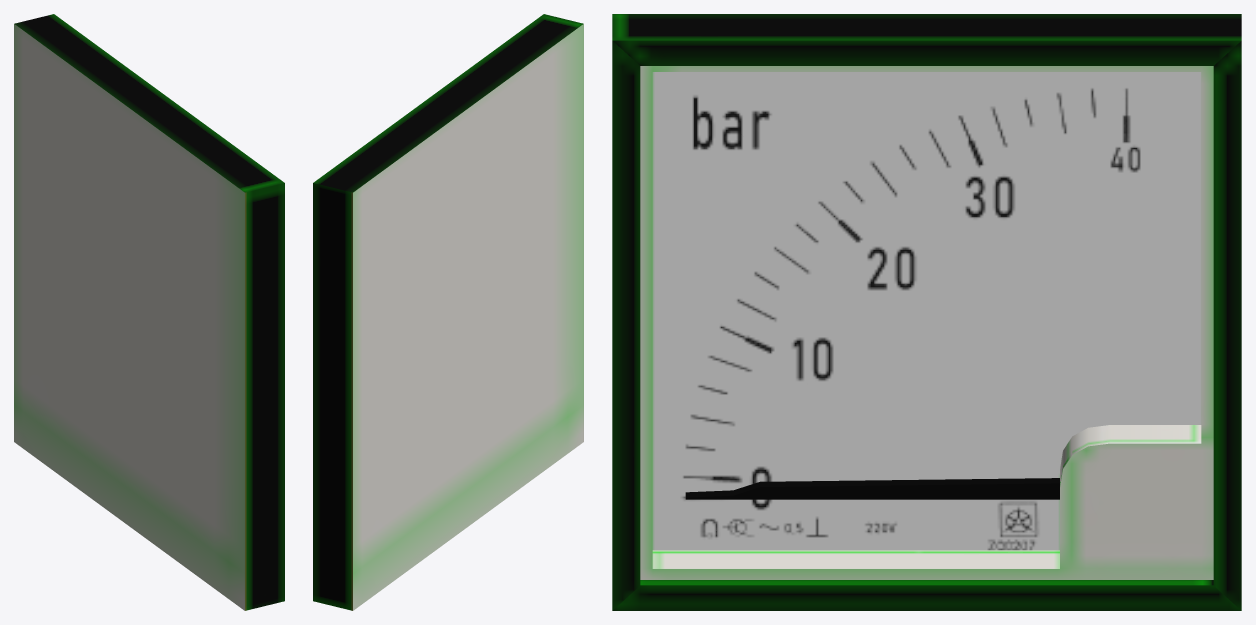
File: gauge_bar_0-30_square.fbx
3 views of the same model, side by side, from view 1: azimuth 30°, elevation 25°; view 2: azimuth 150°, elevation 25°; view 3: azimuth 270°, elevation 25° (orthographic). The views are drawn at different scales.
Parts seen in each view (by area): view 1: gauge_bar_0-30; view 2: gauge_bar_0-30; view 3: gauge_bar_0-30, needle003.
Part boxes in pixels (<box>): gauge_bar_0-30: <box>14,14,284,610</box>; gauge_bar_0-30: <box>313,14,583,610</box>; gauge_bar_0-30: <box>612,14,1241,610</box>; needle003: <box>685,478,1059,499</box>.
Size of the model in its own units: 0.8243 by 8.24 by 8.24.
Materials: 1 (1 with a texture image).
